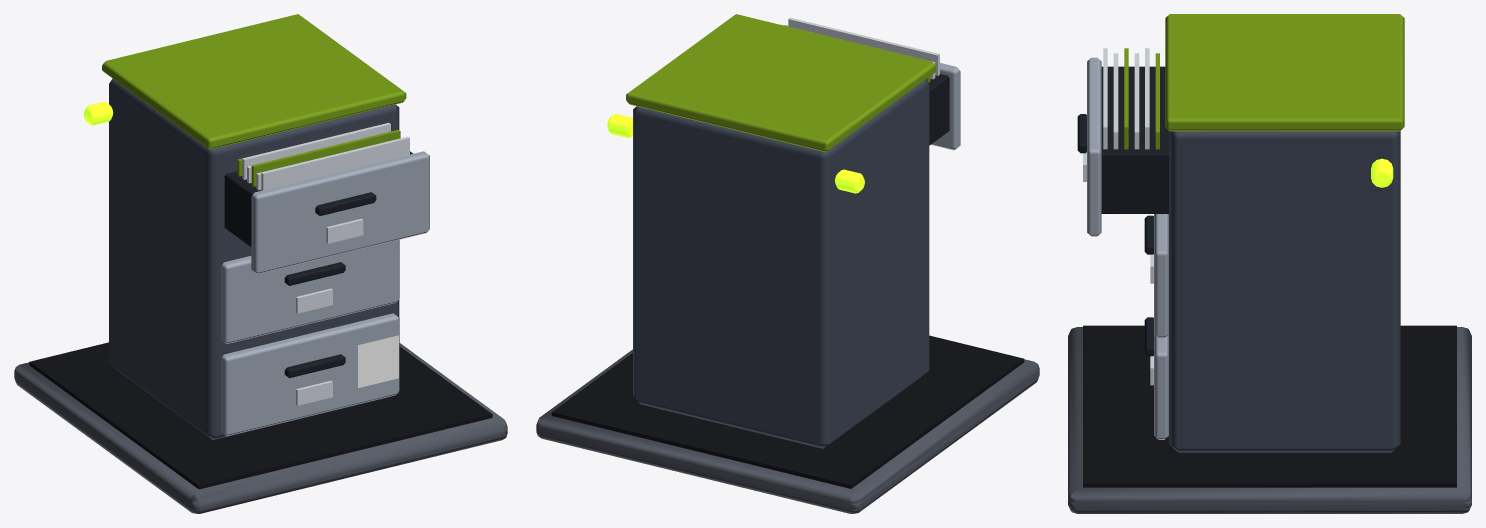
File: efs.glb
3 views of the same model, side by side, from view 1: azimuth 30°, elevation 25°; view 2: azimuth 150°, elevation 25°; view 3: azimuth 270°, elevation 25° (orthographic). The views are drawn at different scales.
Visible parts, largest first — view 1: body.steel, body.steel_light, body.accent, body.rubber, body.concrete, body.white, body.bezel, body.badge, body.accent_glow; view 2: body.steel, body.accent, body.rubber, body.concrete, body.white, body.bezel, body.steel_light, body.accent_glow; view 3: body.steel, body.rubber, body.accent, body.concrete, body.bezel, body.steel_light, body.white, body.accent_glow.
Part boxes in pixels (x1,y1,x2,y2): body.steel: (109, 78, 399, 439); body.steel_light: (220, 151, 429, 436); body.accent: (102, 14, 406, 186); body.rubber: (29, 342, 492, 489); body.concrete: (14, 343, 507, 513); body.white: (242, 122, 409, 405); body.bezel: (224, 151, 412, 378); body.badge: (358, 335, 398, 387); body.accent_glow: (84, 102, 113, 125); body.steel: (633, 80, 929, 448); body.accent: (626, 14, 936, 152); body.rubber: (551, 335, 1024, 488); body.concrete: (536, 349, 1039, 513); body.white: (788, 17, 939, 79); body.bezel: (928, 74, 949, 145); body.steel_light: (784, 25, 960, 150); body.accent_glow: (607, 114, 864, 193); body.steel: (1169, 131, 1400, 452); body.rubber: (1083, 325, 1456, 487); body.accent: (1124, 14, 1404, 149); body.concrete: (1068, 327, 1471, 513); body.bezel: (1077, 66, 1168, 356); body.steel_light: (1087, 57, 1168, 439); body.white: (1083, 48, 1153, 385); body.accent_glow: (1371, 158, 1393, 187).
Bounding box in the file's own units: 1.08 × 1.08 × 1.08.
